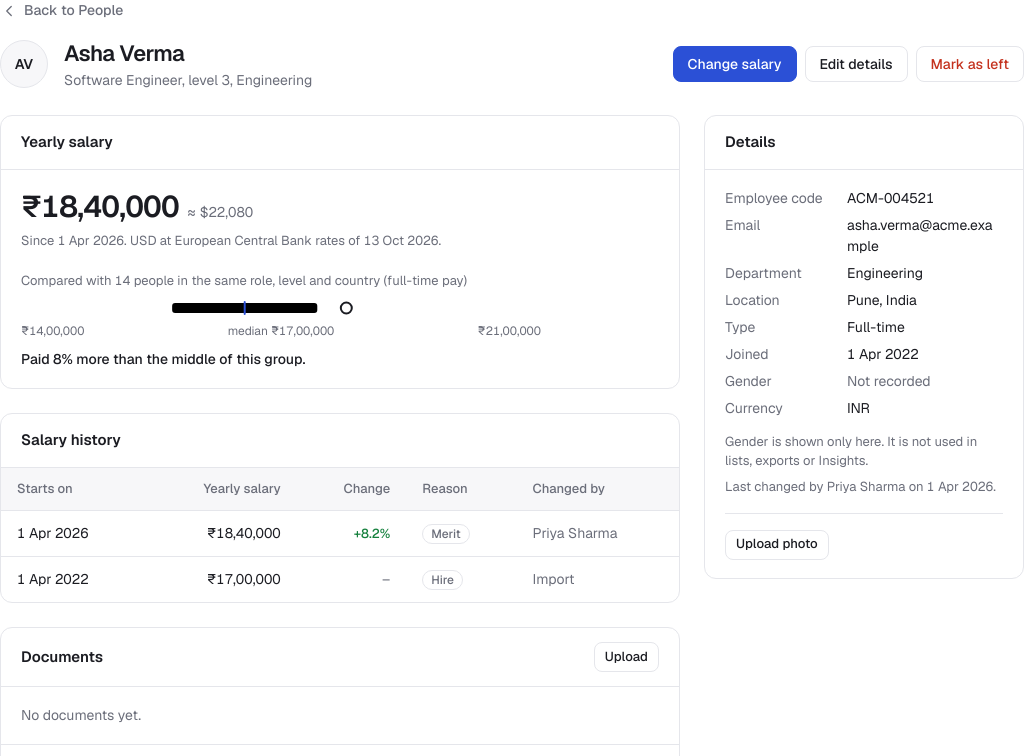
Test: Employee page actions › Change salary opens its dialog and Cancel closes it
Click the button "Change salary".
click(735, 64)  # box [673,46,796,82]
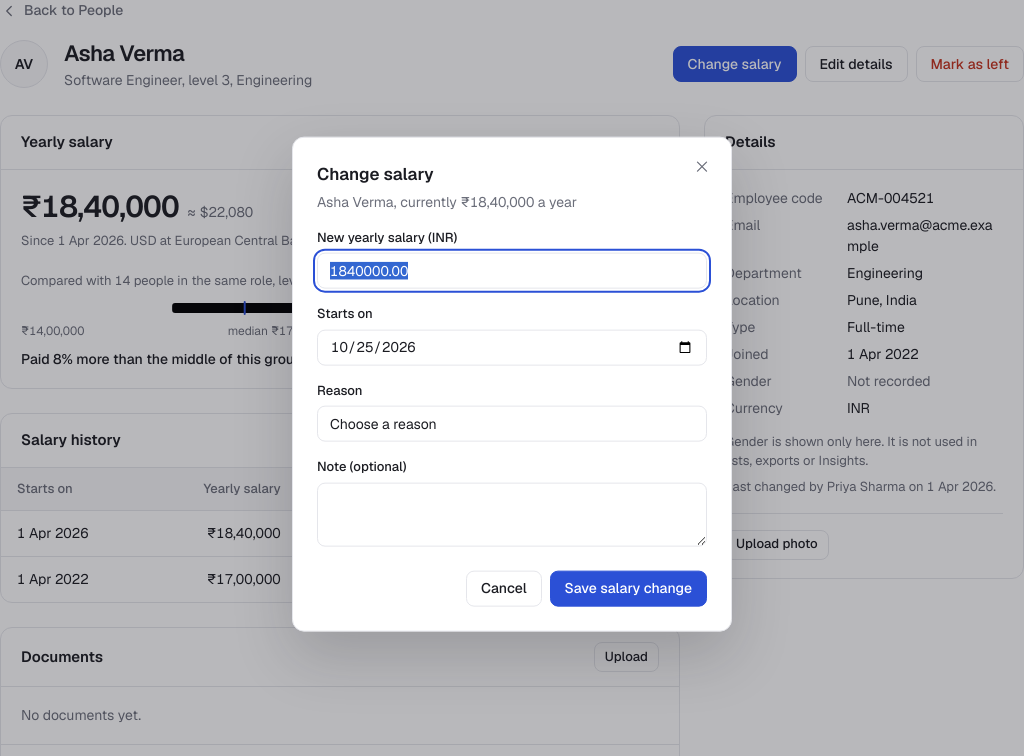
Click the button "Cancel".
click(504, 588)  # box [466,570,542,606]
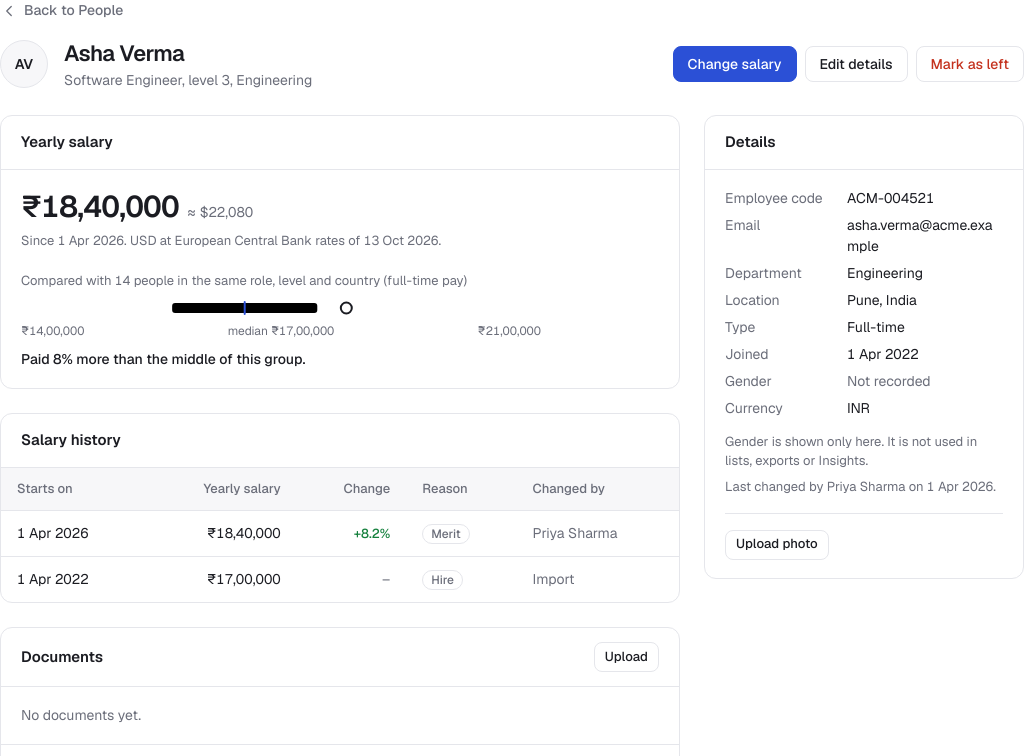
expect the dialog is gone: met
